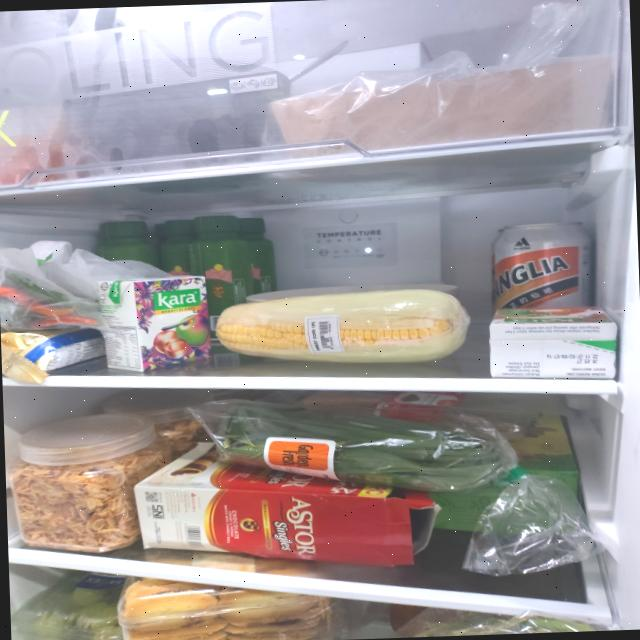chili: (0, 264, 97, 329)
coconut_milk: (96, 274, 214, 374), (487, 304, 619, 384)
corn: (214, 286, 473, 369)
grape: (29, 585, 125, 640)
leafy_greens: (214, 392, 506, 500)
